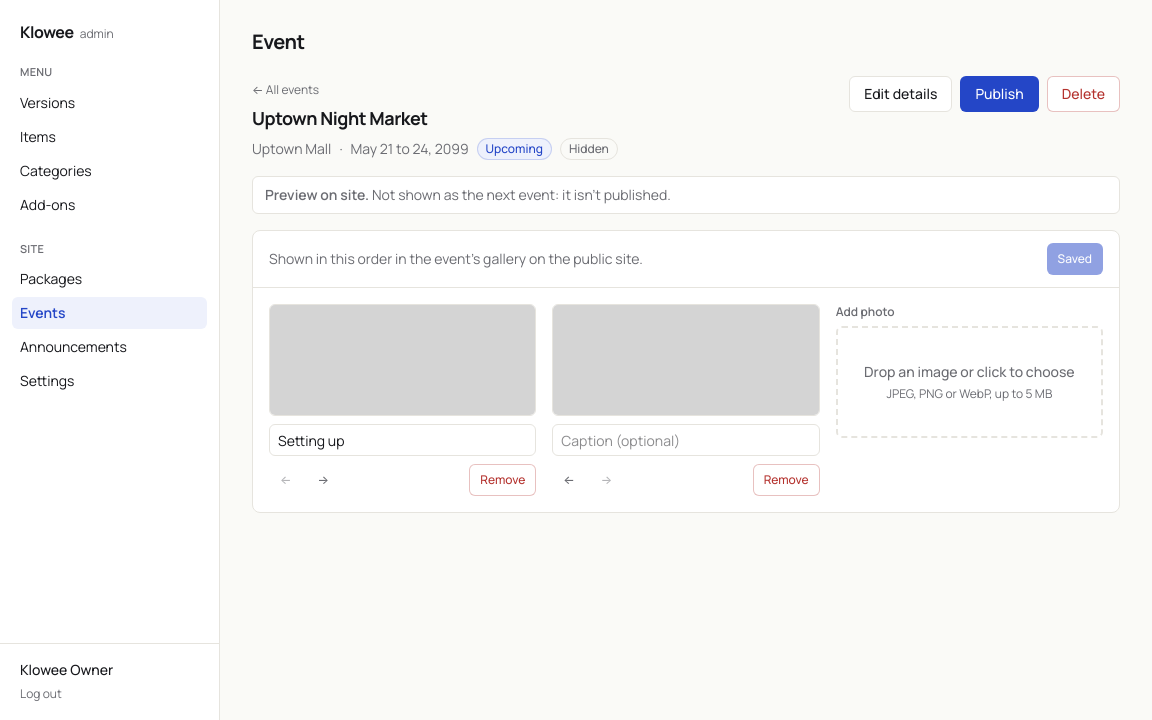
Test case: EventDetailPage › shows the API's 409 if a publish gets through anyway
The width and height of the screenshot is (1152, 720).
Click the button "Publish": (1000, 94) [960,76,1039,112]
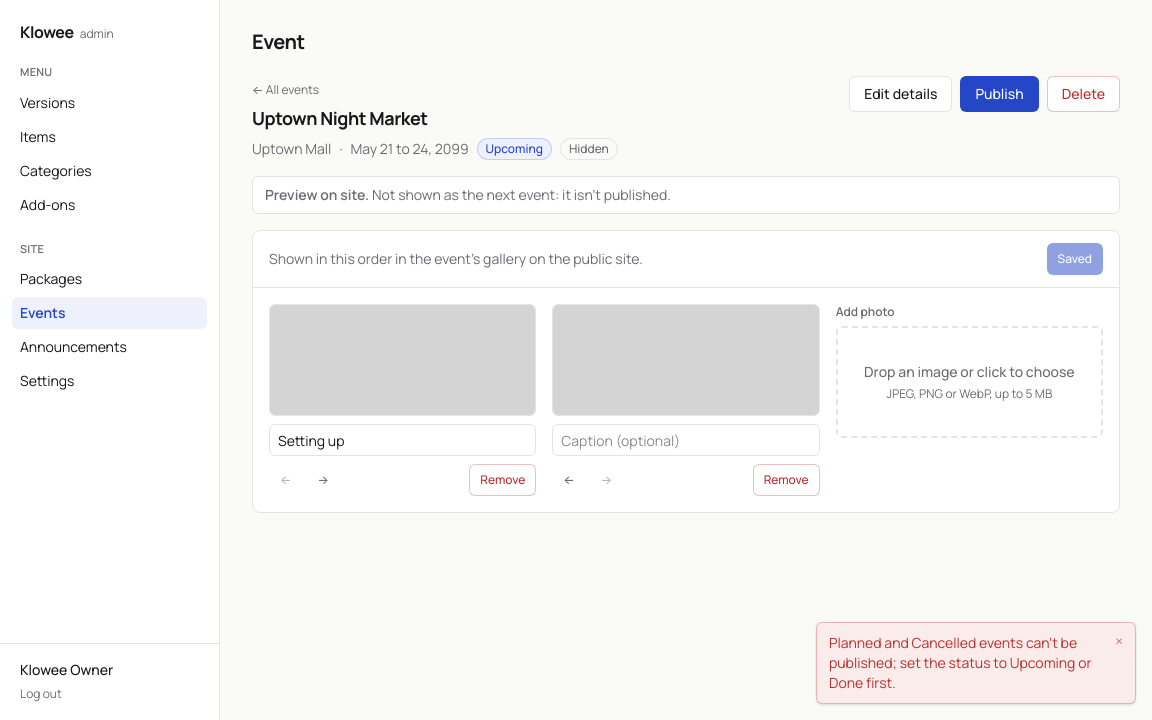
Now the text "Planned and Cancelled events can't be published; set the status to Upcoming or Done first." is shown, box [829,633,1092,692]
